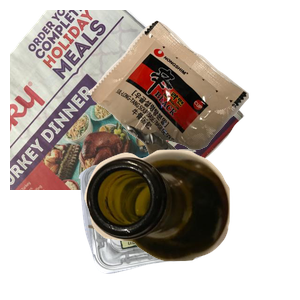glass: (82, 147, 300, 300)
paper: (10, 10, 247, 190)
plastic: (76, 151, 270, 300)
trash: (86, 18, 300, 194)
